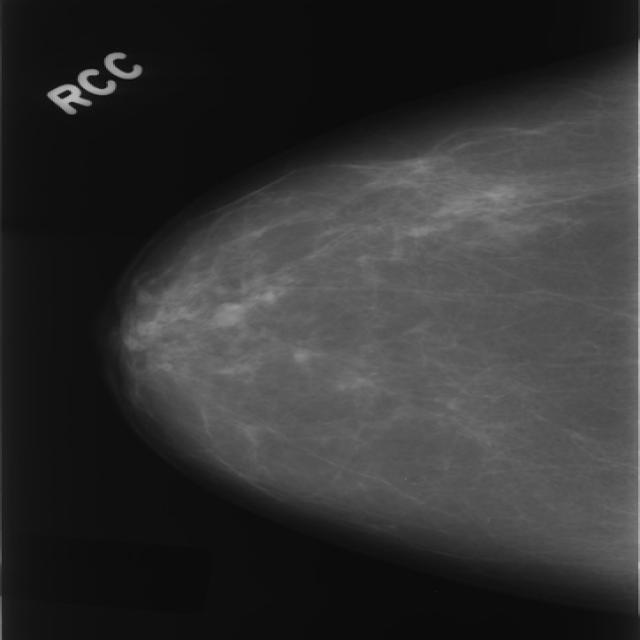tumour: (210, 300, 244, 325)
